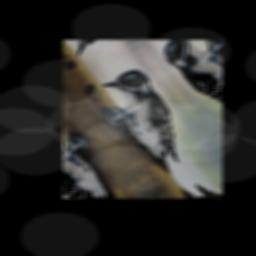Woodpecker: (94, 61, 208, 180)
